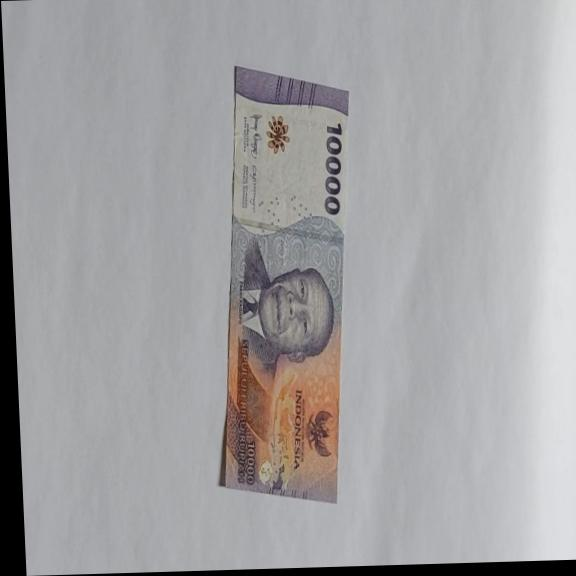Kertas: (200, 62, 369, 507)
